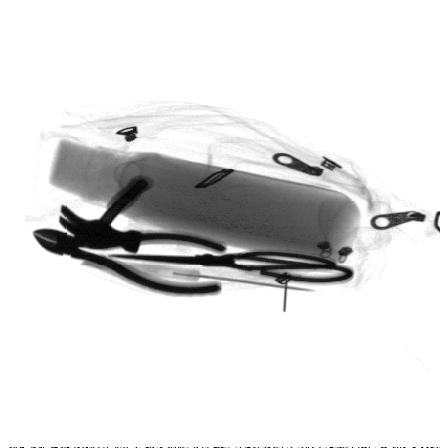Hammer: (59, 174, 154, 254)
Knife: (80, 256, 203, 283)
Pliers: (32, 228, 230, 297)
Scissors: (104, 250, 356, 284)
